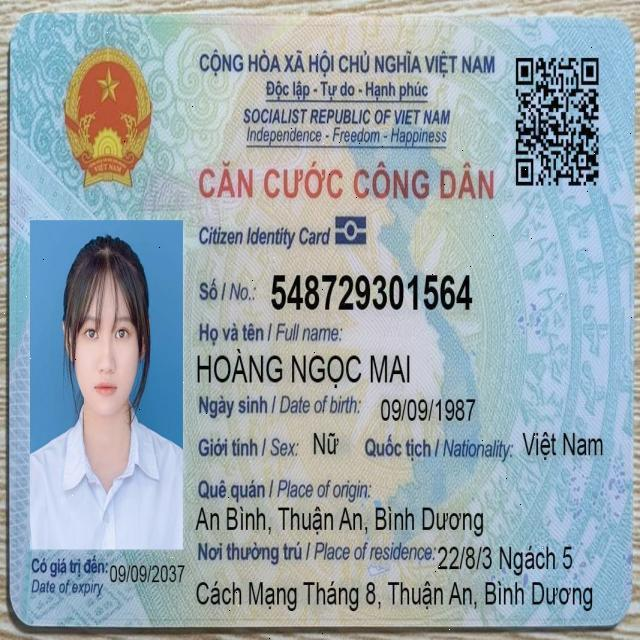current_place: (193, 575, 596, 617), (435, 539, 577, 578)
dob: (378, 394, 478, 425)
expire_date: (107, 560, 188, 587)
gender: (310, 427, 342, 460)
id: (267, 268, 476, 316)
name: (191, 342, 414, 389)
nationality: (519, 426, 606, 464)
origin_place: (193, 501, 486, 540)
